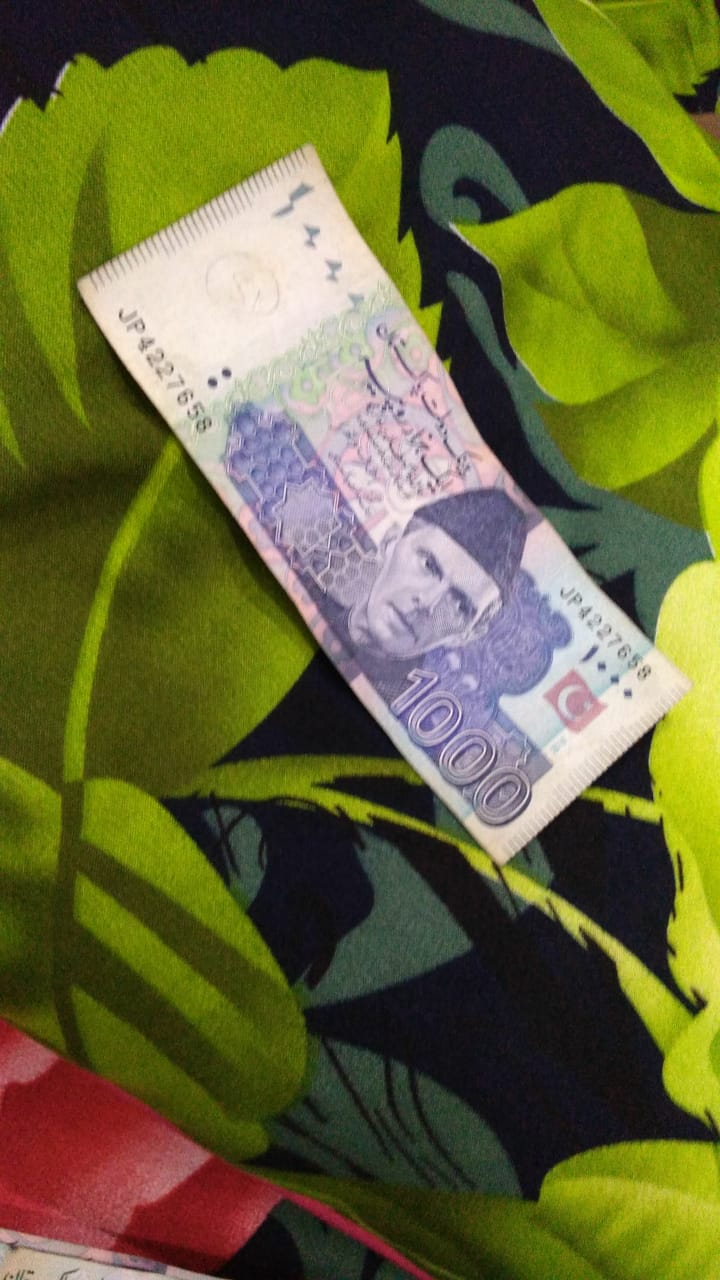1000 rupee: (47, 153, 657, 874)
